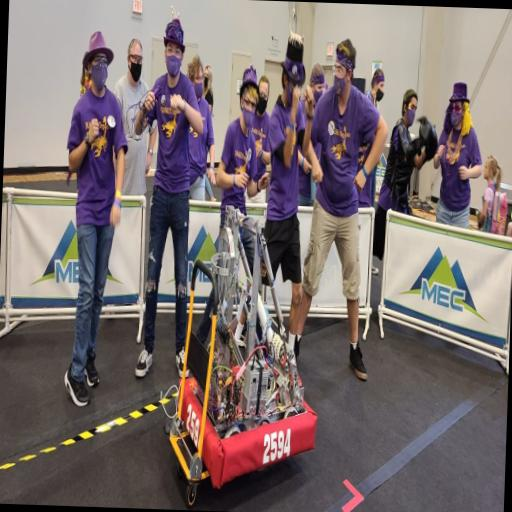robot: (170, 195, 326, 483)
